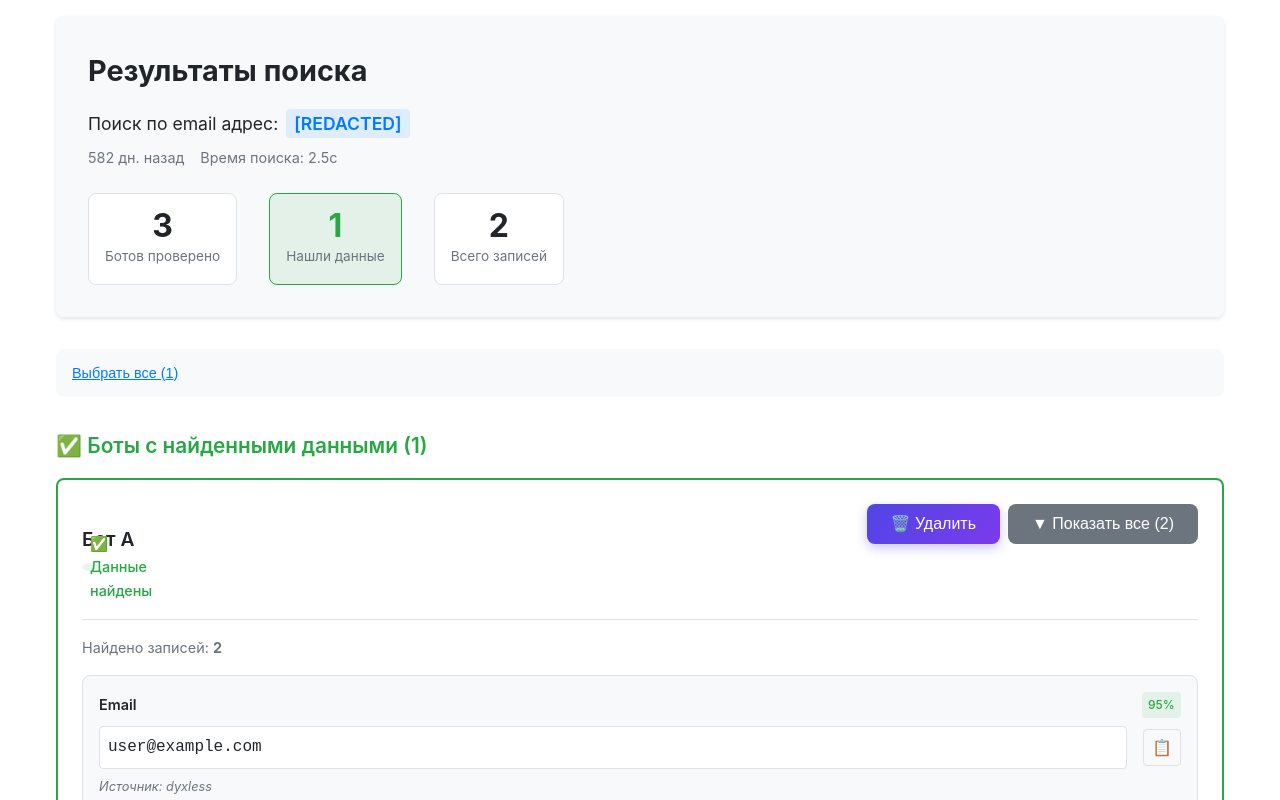
Test: ResultsDisplay › Bulk actions › selects all bots with data when select all is clicked
Click the button "Выбрать все (1)": (125, 373) [72,365,178,381]
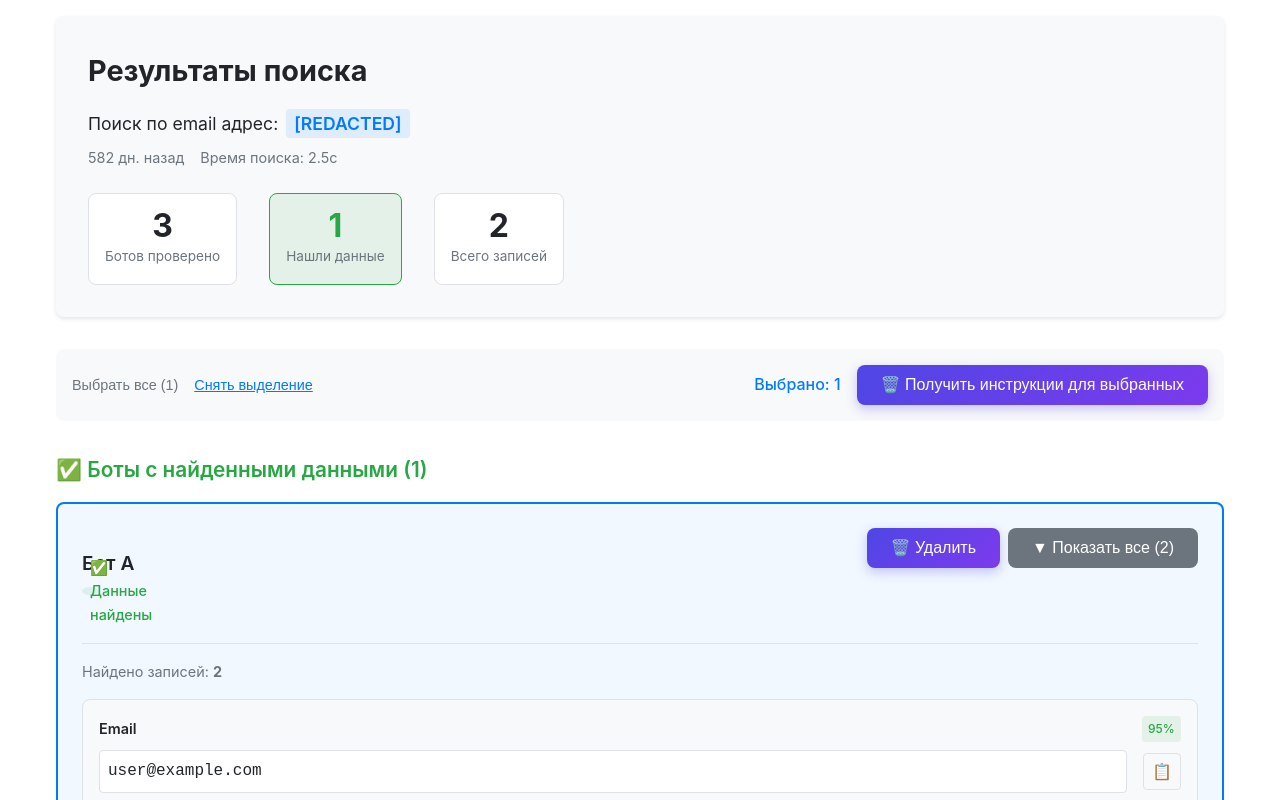
Expected: the text "Выбрано: 1" is shown, [754,372,841,398]
